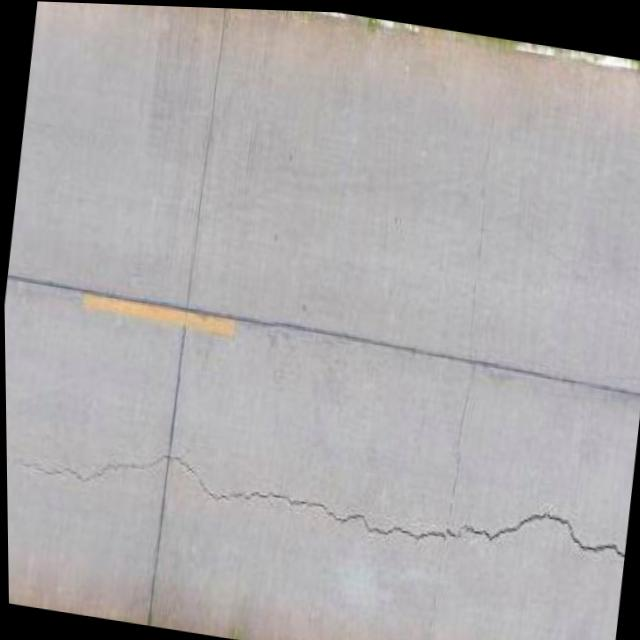Crack: (4, 380, 244, 530), (401, 465, 630, 591), (223, 435, 414, 555)
